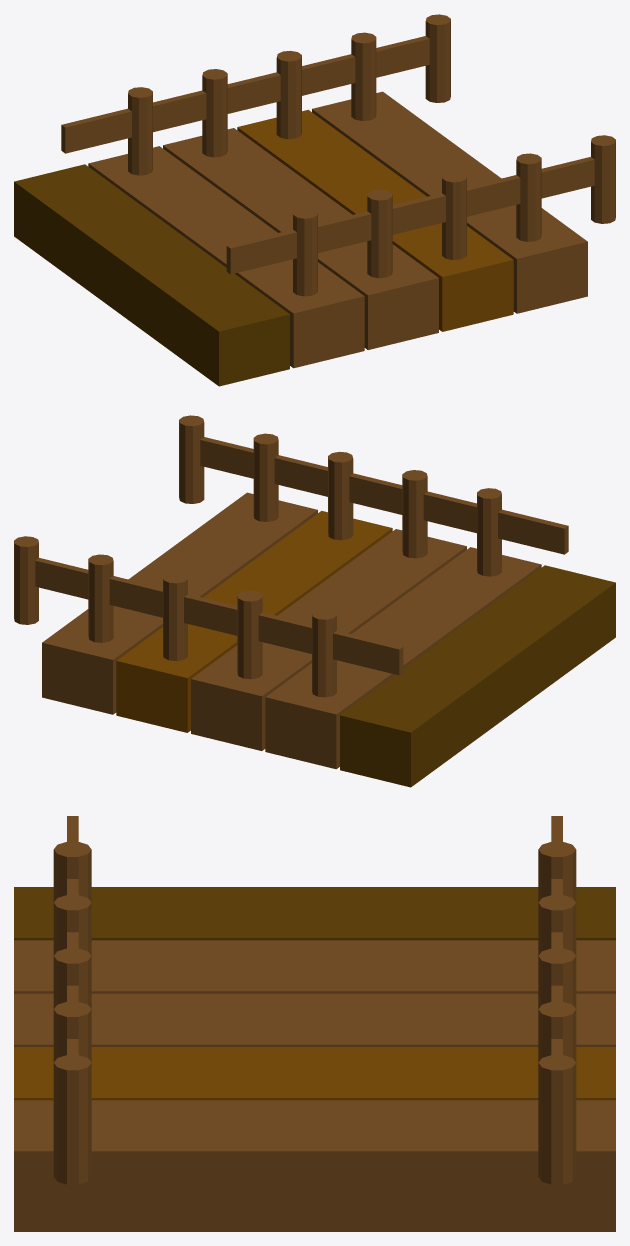
File: BridgeMiddle.fbx
3 views of the same model, one above another, from view 1: azimuth 30°, elevation 25°; view 2: azimuth 150°, elevation 25°; view 3: azimuth 270°, elevation 25° (orthographic). The views are drawn at different scales.
Parts seen in each view (by area): view 1: Bridge; view 2: Bridge; view 3: Bridge.
Boxes of the visible parts, bbox=[...] form: Bridge: bbox=[14, 14, 615, 386]; Bridge: bbox=[14, 415, 615, 787]; Bridge: bbox=[14, 816, 615, 1231].
Bounding box in the file's own units: 1114 × 340 × 954.
